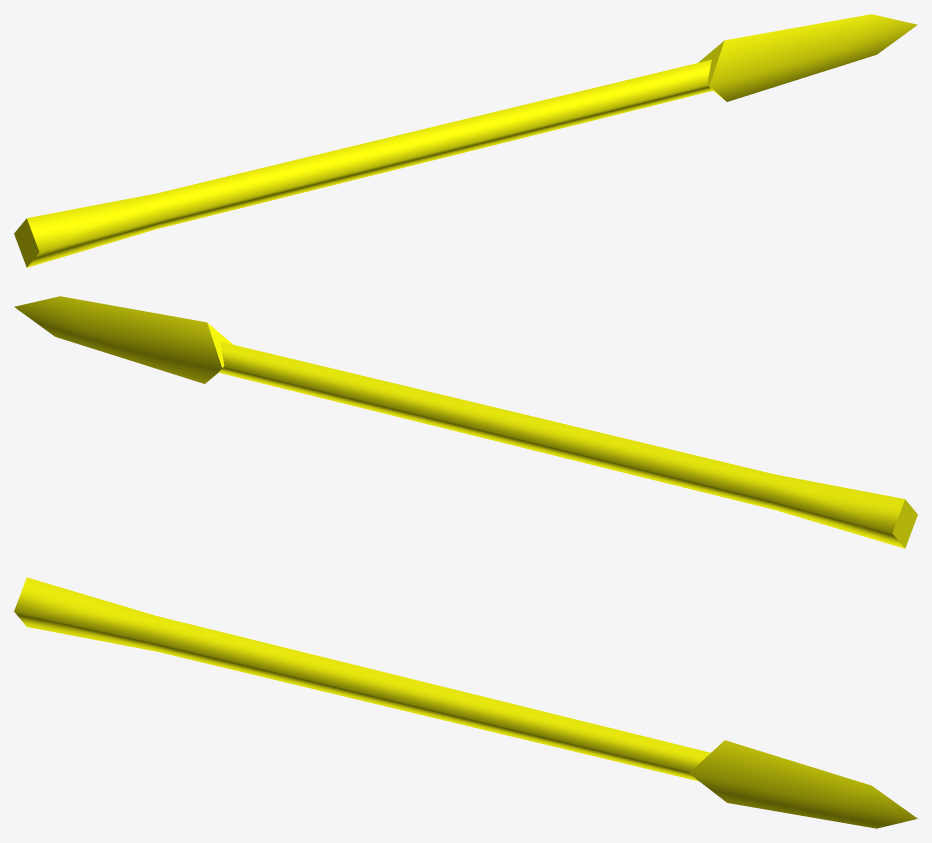
The model's file is ELF_weapon_spear.glb.
The picture shows the model from 3 angles, top to bottom: view 1: azimuth 30°, elevation 25°; view 2: azimuth 150°, elevation 25°; view 3: azimuth 330°, elevation 25°; orthographic projection.
Visible parts, largest first — view 1: ELF_weapon_spear; view 2: ELF_weapon_spear; view 3: ELF_weapon_spear.
Boxes of the visible parts, <box> form: ELF_weapon_spear: <box>14,14,917,267</box>; ELF_weapon_spear: <box>14,296,917,548</box>; ELF_weapon_spear: <box>14,577,917,828</box>.
Size of the model in its own units: 6.52 by 0.4353 by 0.3236.
Materials: 1 (1 with a texture image).
